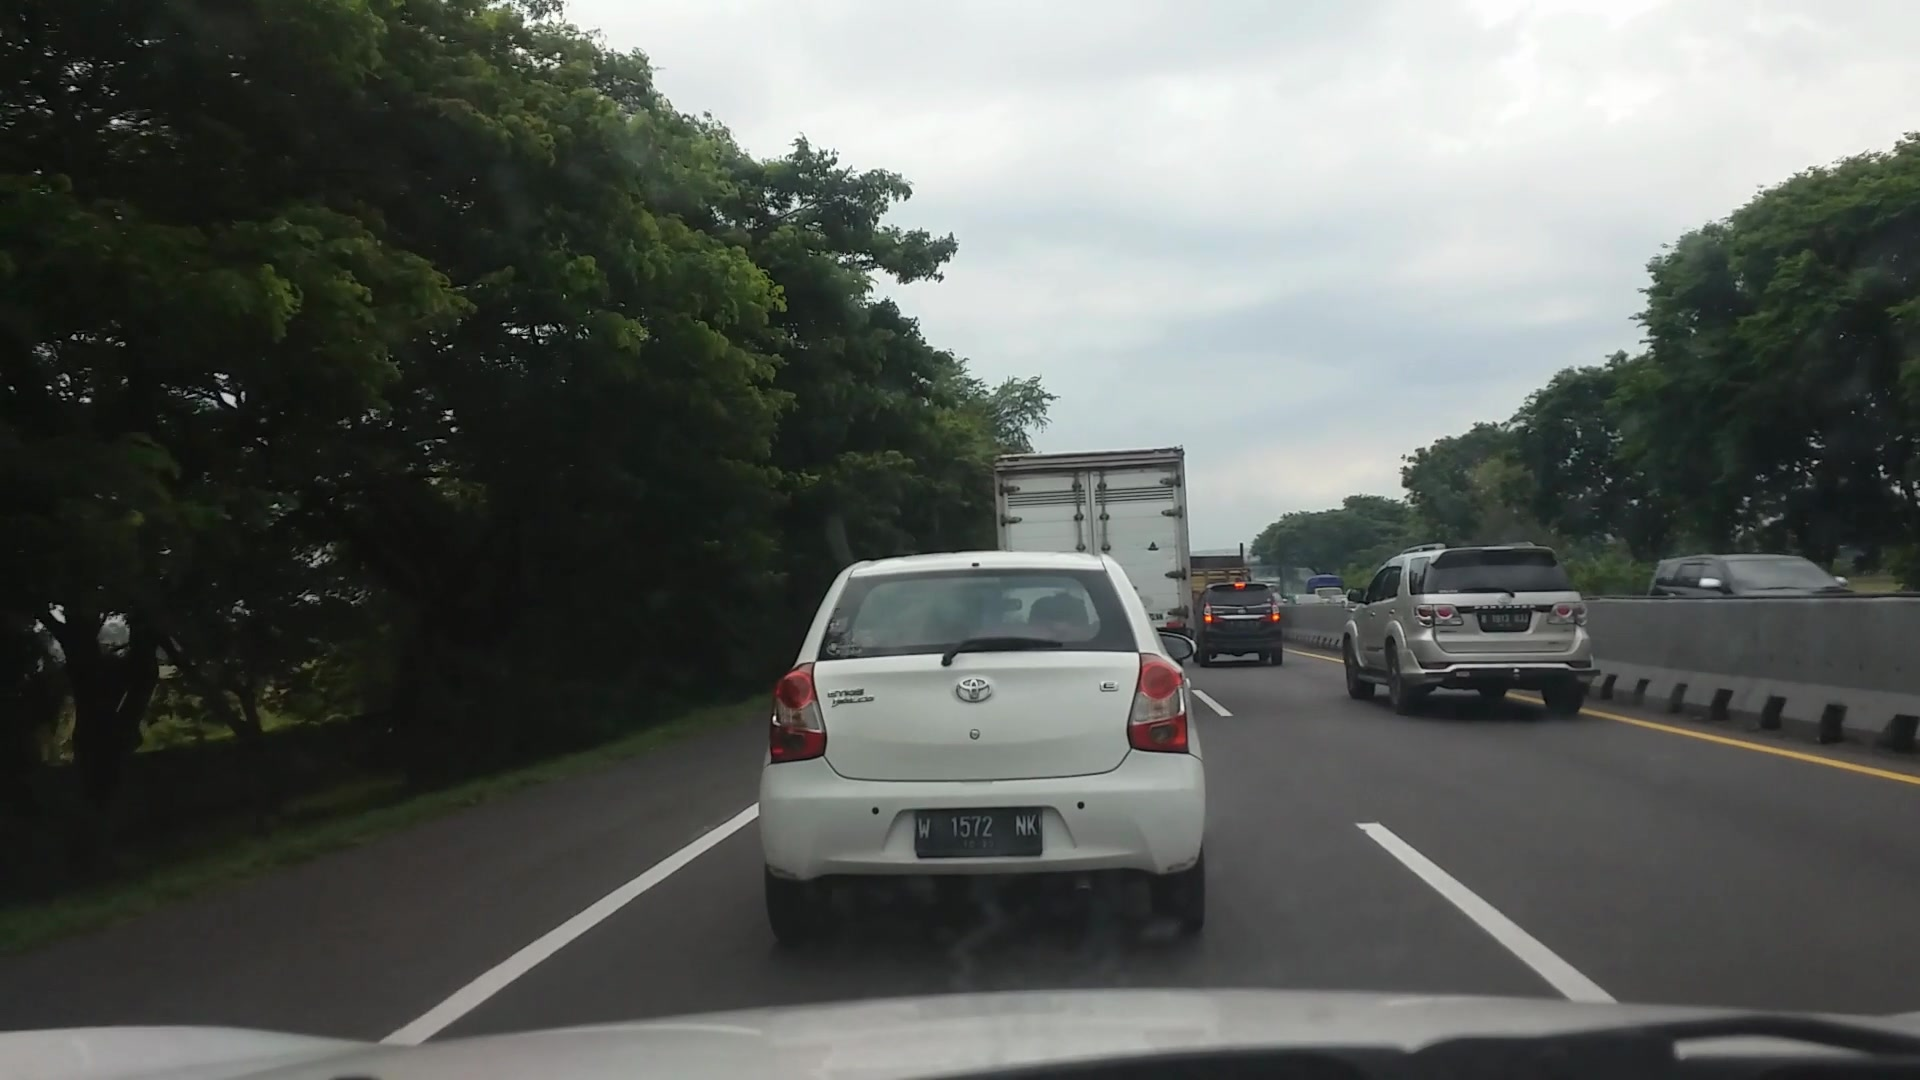plate_positive: (915, 807, 1043, 858), (1480, 612, 1528, 628)
